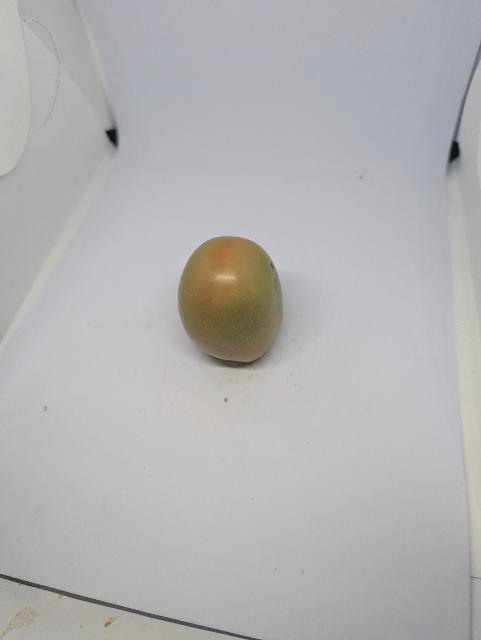breaker: (174, 231, 288, 383)
